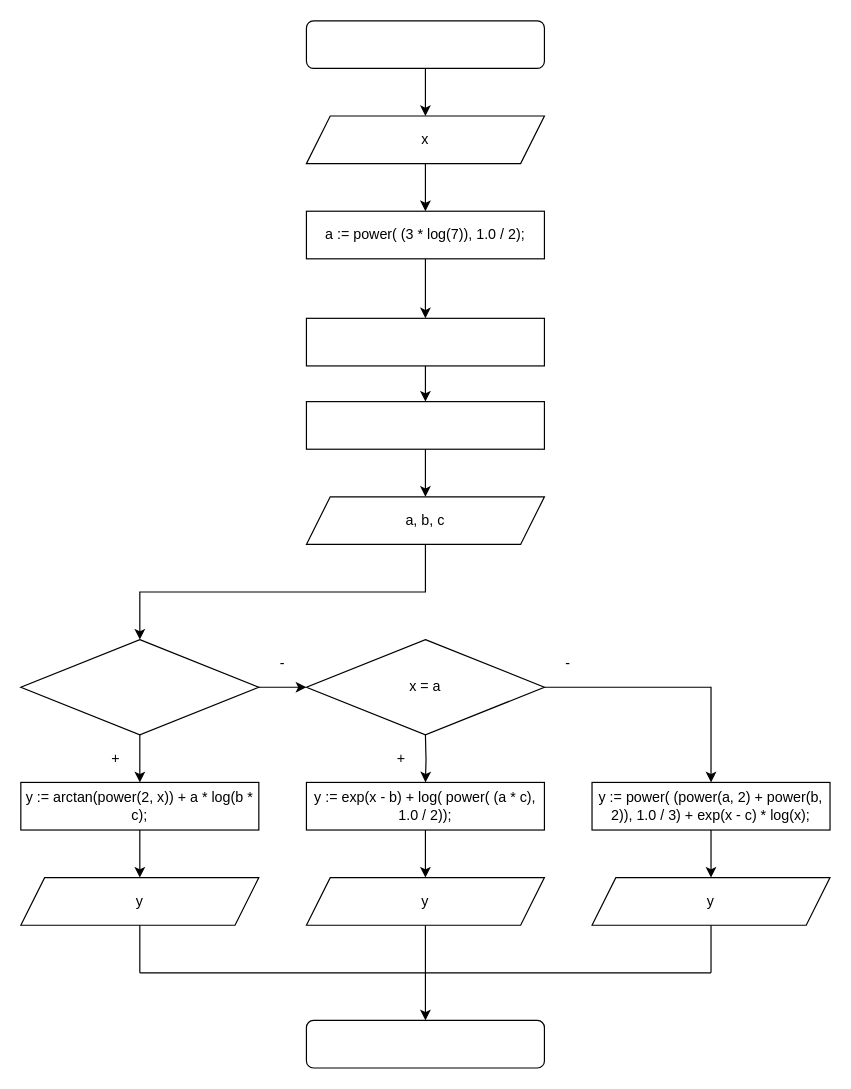
The diagram is 851 pixels wide and 1089 high, and some of its shapes have lost their labels. The shapes that lost their labels are listed below. From the top down, each one's centre as x and y in pixels, then its label:
At point (424, 44): "ПОЧАТОК".
At point (424, 341): "b := tan(pi / 3);".
At point (424, 424): "c := exp(-2);".
At point (139, 686): "x > a".
At point (424, 1043): "КІНЕЦЬ".
